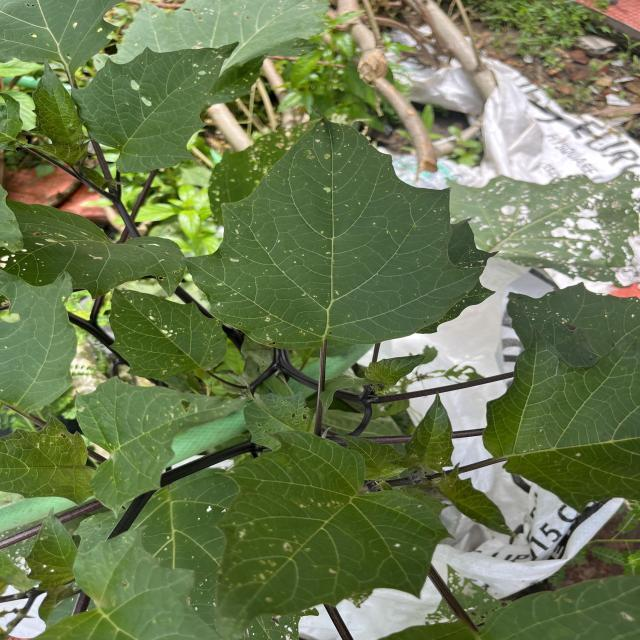Datura metal linn: (180, 99, 490, 352), (210, 424, 460, 639), (68, 39, 241, 175), (106, 283, 230, 382), (28, 56, 99, 146), (388, 388, 458, 476)
